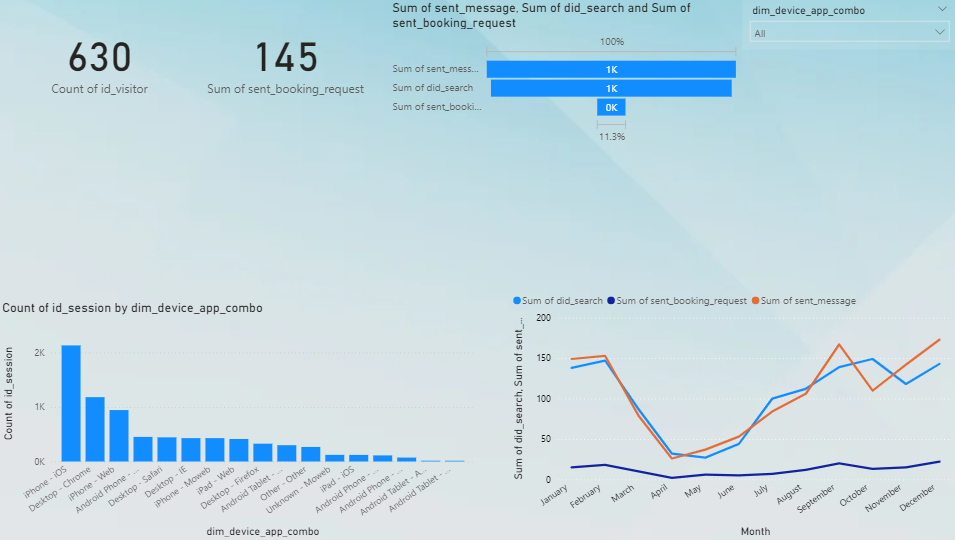

The dashboard page shown, as its layout file describes it:
{"tool":"powerbi","page":{"name":"Page 1","canvas":[1280,720],"ordinal":0},"visuals":[{"type":"lineChart","fields":{"Category":["airbnb (5).ds.Variation.Date Hierarchy.Month"],"Y":["Sum(airbnb (5).did_search)","Sum(airbnb (5).sent_booking_request)","Sum(airbnb (5).sent_message)"]},"box":[682.9,380,597.1,340],"z":0},{"type":"card","fields":{"Values":["Count(airbnb (5).id_visitor)"]},"box":[0,0,272.9,158.6],"z":1},{"type":"card","fields":{"Values":["Sum(airbnb (5).sent_booking_request)"]},"box":[248.6,0,272.9,158.6],"z":2},{"type":"funnel","fields":{"Y":["Sum(airbnb (5).sent_message)","Sum(airbnb (5).did_search)","Sum(airbnb (5).sent_booking_request)"]},"box":[521.4,0,472.9,195.7],"z":3},{"type":"slicer","fields":{"Values":["airbnb (5).dim_device_app_combo"]},"box":[994.3,0,285.7,65.7],"z":4},{"type":"columnChart","fields":{"Category":["airbnb (5).dim_device_app_combo"],"Y":["CountNonNull(airbnb (5).id_session)"]},"box":[1.4,400,638.6,320],"z":5}]}

Visuals, with their boxes in screenshot pixels (x1, y1, x2, y2), scaled from the page's 1280x720 canvas onto the 955x540 screenshot:
lineChart - airbnb (5).ds.Variation.Date Hierarchy.Month x Sum(airbnb (5).did_search): rect(510, 285, 954, 539)
card - Count(airbnb (5).id_visitor): rect(0, 0, 204, 119)
card - Sum(airbnb (5).sent_booking_request): rect(185, 0, 389, 119)
funnel - Sum(airbnb (5).sent_message) x Sum(airbnb (5).did_search): rect(389, 0, 742, 147)
slicer - airbnb (5).dim_device_app_combo: rect(742, 0, 954, 49)
columnChart - airbnb (5).dim_device_app_combo x CountNonNull(airbnb (5).id_session): rect(1, 300, 478, 539)
